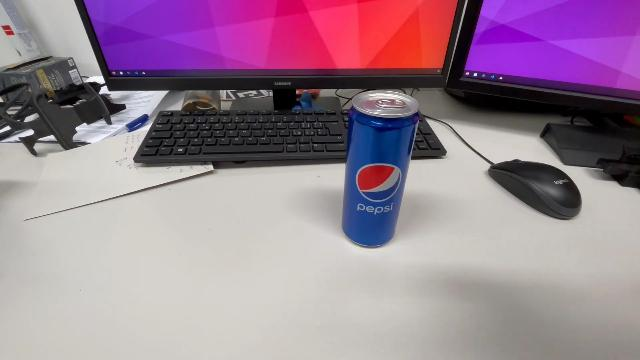Pepsi: (338, 88, 422, 252)
